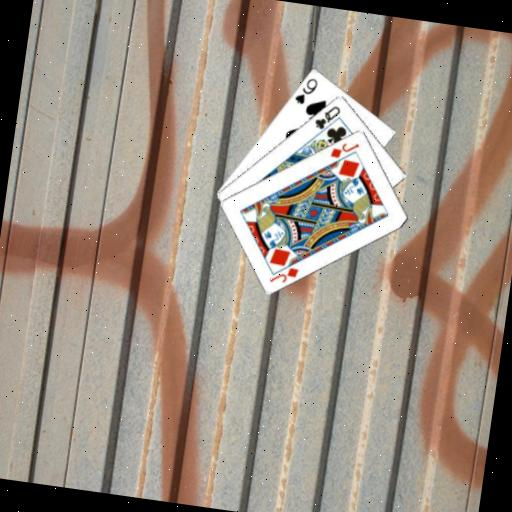9S: (291, 73, 320, 108)
JD: (266, 261, 301, 288), (327, 136, 362, 162)
QC: (311, 100, 343, 134)
